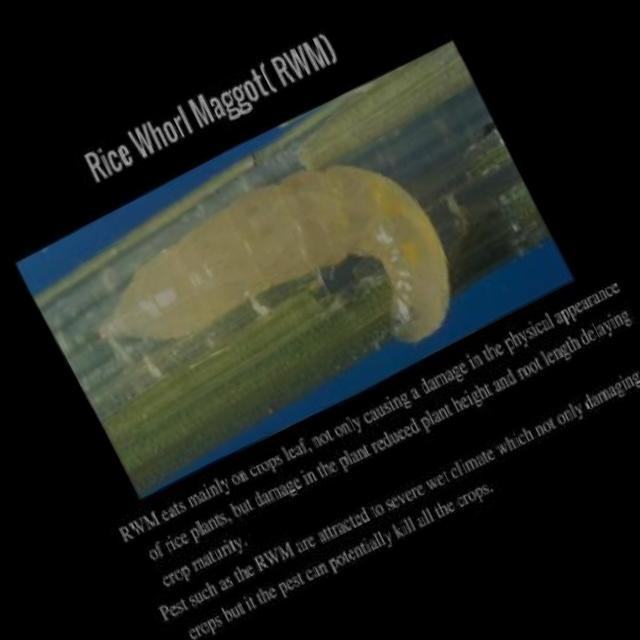whorl-maggot: (59, 111, 493, 478)
